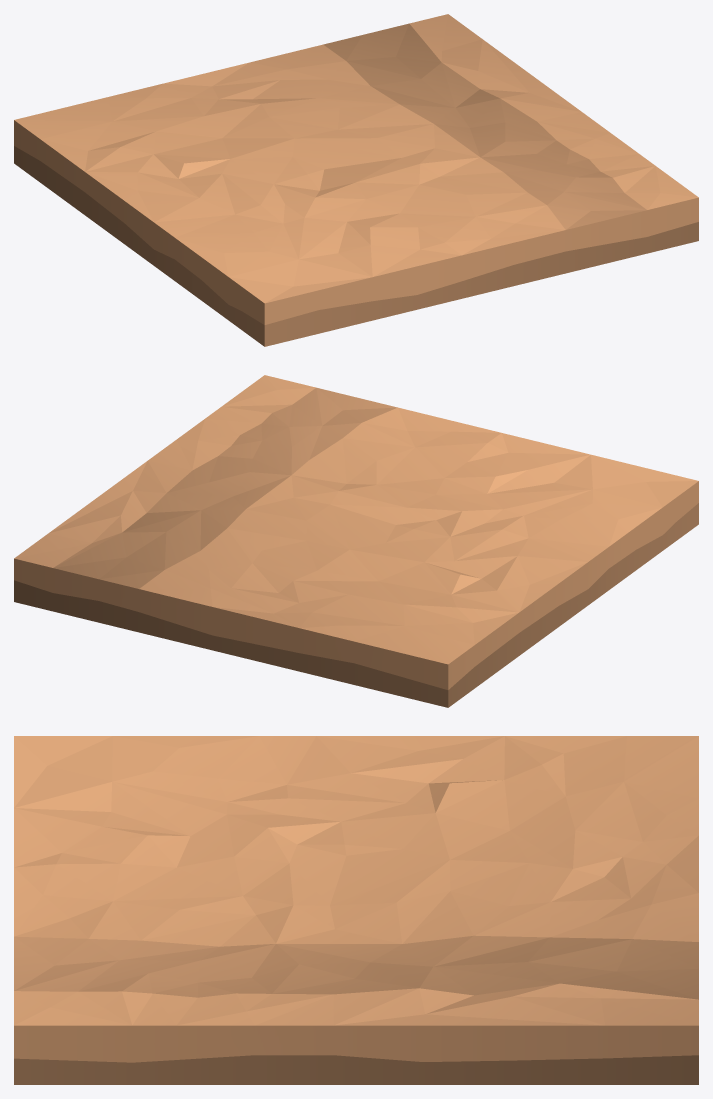
The model's file is land wild west railway station.fbx.
3 views of the same model, one above another, from view 1: azimuth 30°, elevation 25°; view 2: azimuth 150°, elevation 25°; view 3: azimuth 270°, elevation 25° (orthographic). The views are drawn at different scales.
Parts seen in each view (by area): view 1: land wild west railway station; view 2: land wild west railway station; view 3: land wild west railway station.
Part boxes in pixels (left/top/right/bottom): land wild west railway station: left=14, top=14, right=698, bottom=346; land wild west railway station: left=14, top=375, right=698, bottom=707; land wild west railway station: left=14, top=736, right=698, bottom=1084.
Bounding box in the file's own units: 4500 × 470 × 4500.
